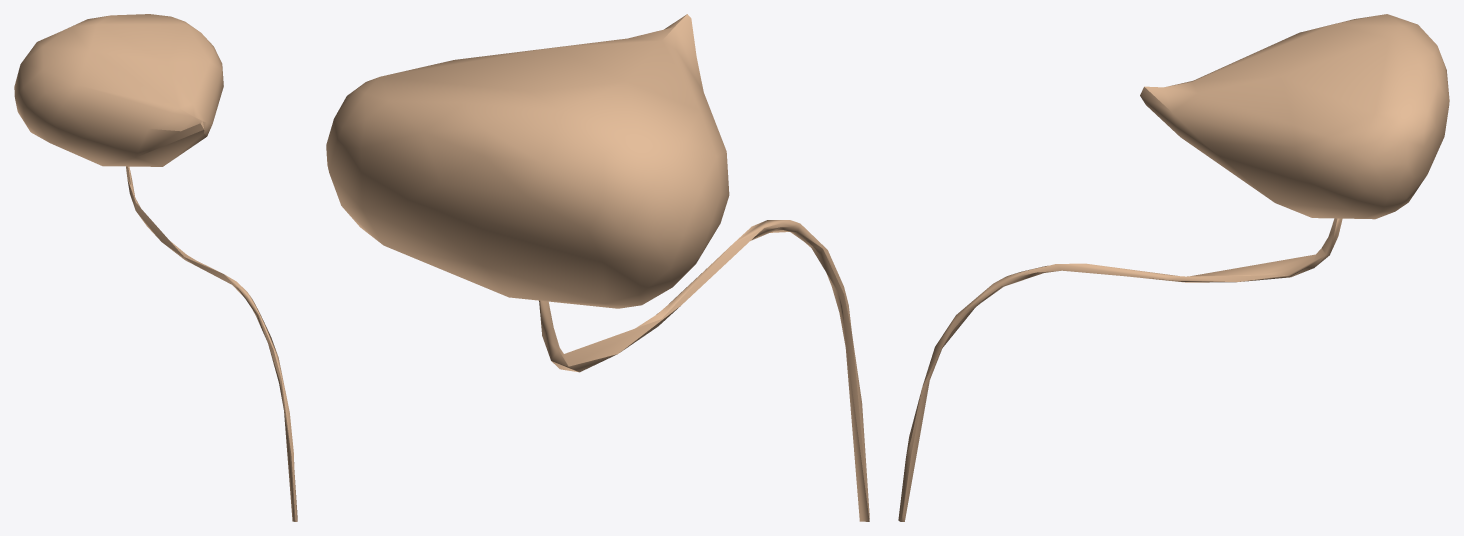
The model's file is urinaire-bassin.lo.glb.
3 renders of one model, left to right at view 1: azimuth 30°, elevation 25°; view 2: azimuth 150°, elevation 25°; view 3: azimuth 270°, elevation 25°, orthographic. The views are drawn at different scales.
Parts seen in each view (by area): view 1: FJ3149, FJ3148; view 2: FJ3149, FJ3148; view 3: FJ3149, FJ3148.
Boxes of the visible parts, x1,y1,x2,y2 form: FJ3149: (14,14,223,166); FJ3148: (126,166,297,521); FJ3149: (326,14,729,308); FJ3148: (539,220,869,521); FJ3149: (1140,14,1449,219); FJ3148: (898,218,1342,521).
Bounding box in the file's own units: 0.0668 × 0.1213 × 0.1276.
